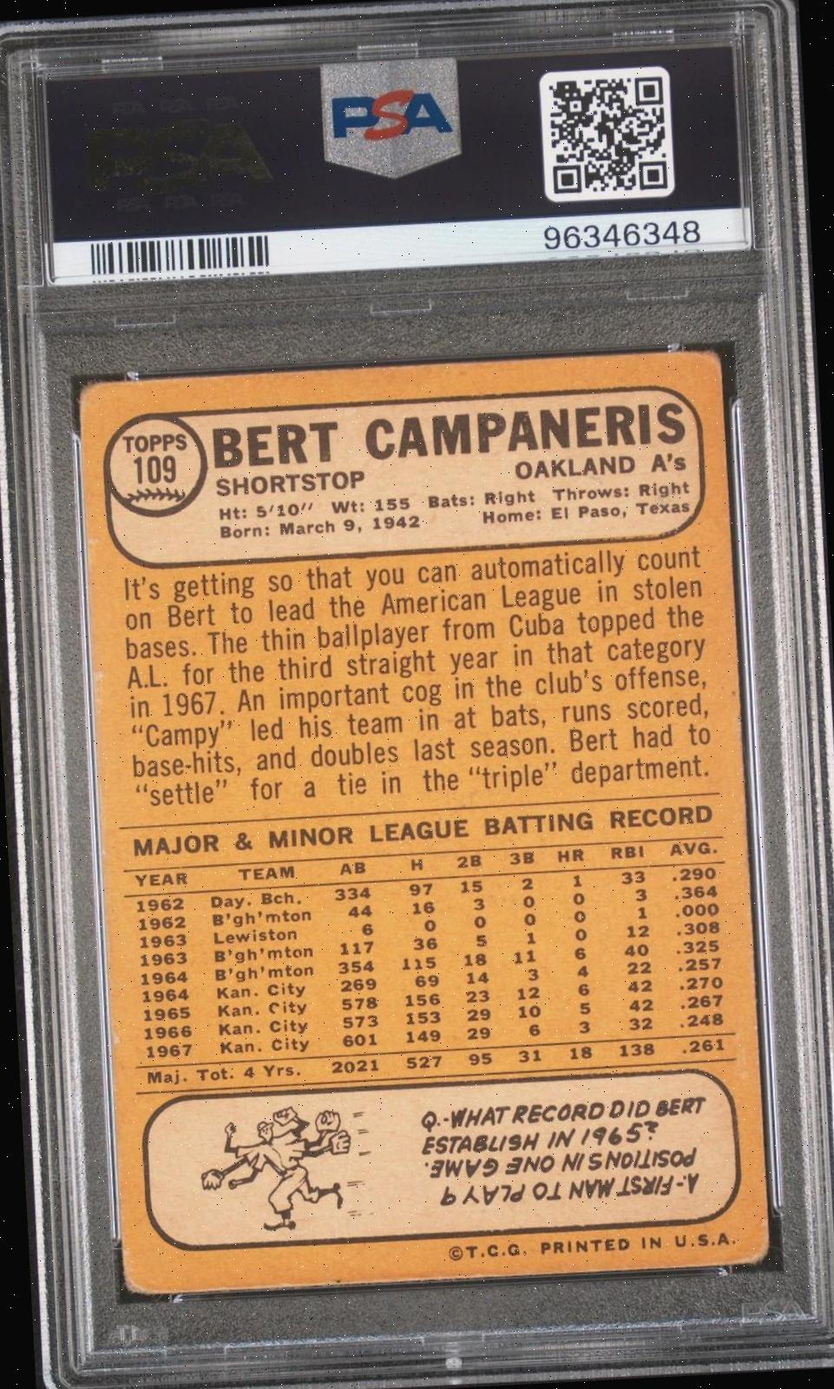card-2UtV: (77, 348, 771, 1297)
